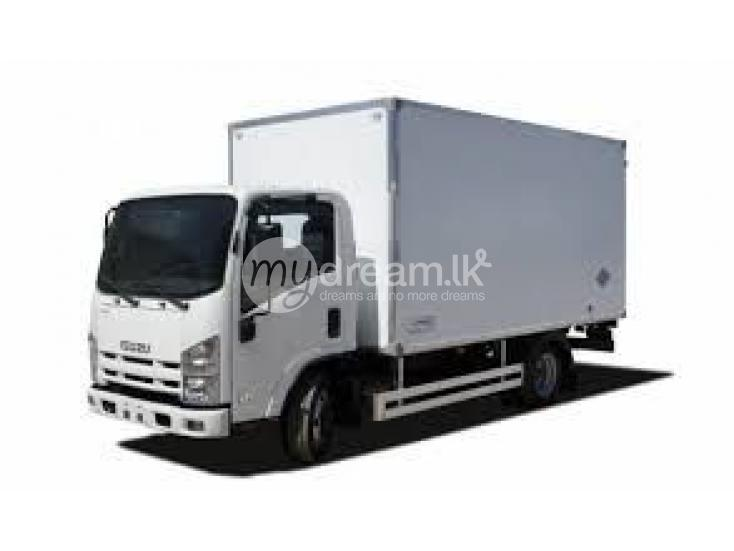truck: (87, 94, 627, 465)
